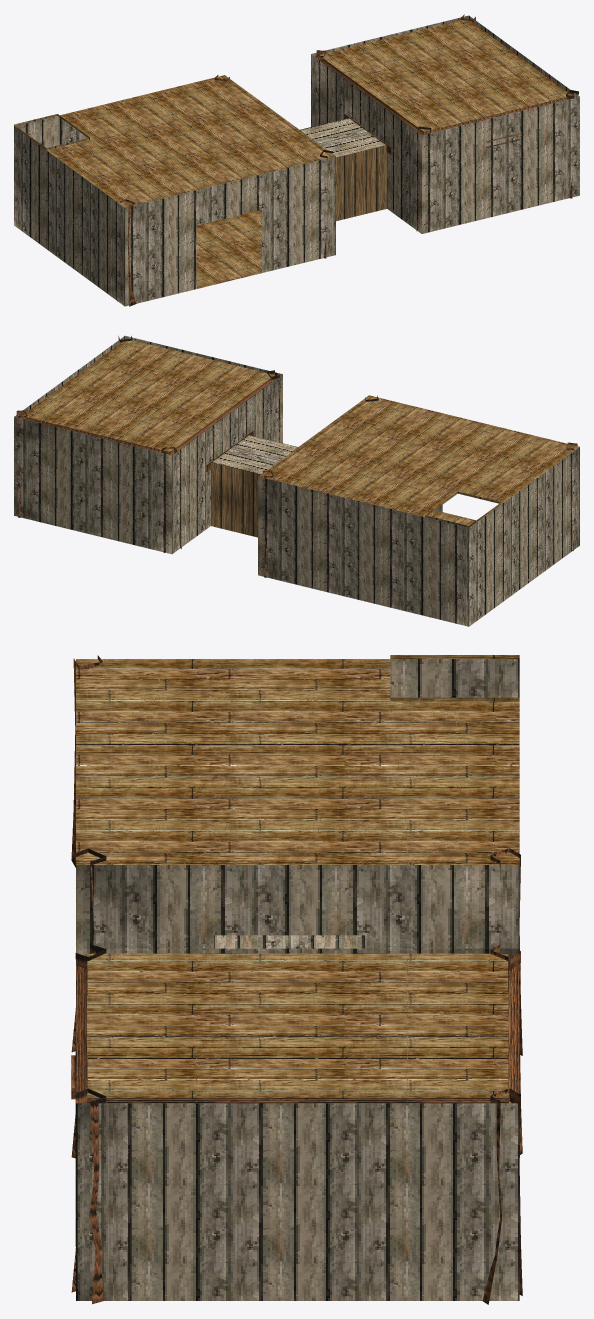
The model's file is LAKETOWN_PUB_PS_PUB_CELLAR5756__GX.fbx.
The picture shows the model from 3 angles, top to bottom: view 1: azimuth 30°, elevation 25°; view 2: azimuth 150°, elevation 25°; view 3: azimuth 270°, elevation 25°; orthographic projection. The views are drawn at different scales.
Parts seen in each view (by area): view 1: LAKETOWN_PUB_PS_PUB_CELLAR5756__GX; view 2: LAKETOWN_PUB_PS_PUB_CELLAR5756__GX; view 3: LAKETOWN_PUB_PS_PUB_CELLAR5756__GX.
Boxes of the visible parts, x1,y1,x2,y2 form: LAKETOWN_PUB_PS_PUB_CELLAR5756__GX: (14, 14, 579, 306); LAKETOWN_PUB_PS_PUB_CELLAR5756__GX: (14, 336, 579, 626); LAKETOWN_PUB_PS_PUB_CELLAR5756__GX: (71, 655, 522, 1304).
Size of the model in its own units: 154158 by 32383 by 65575.
Materials: 7 (7 with a texture image).
